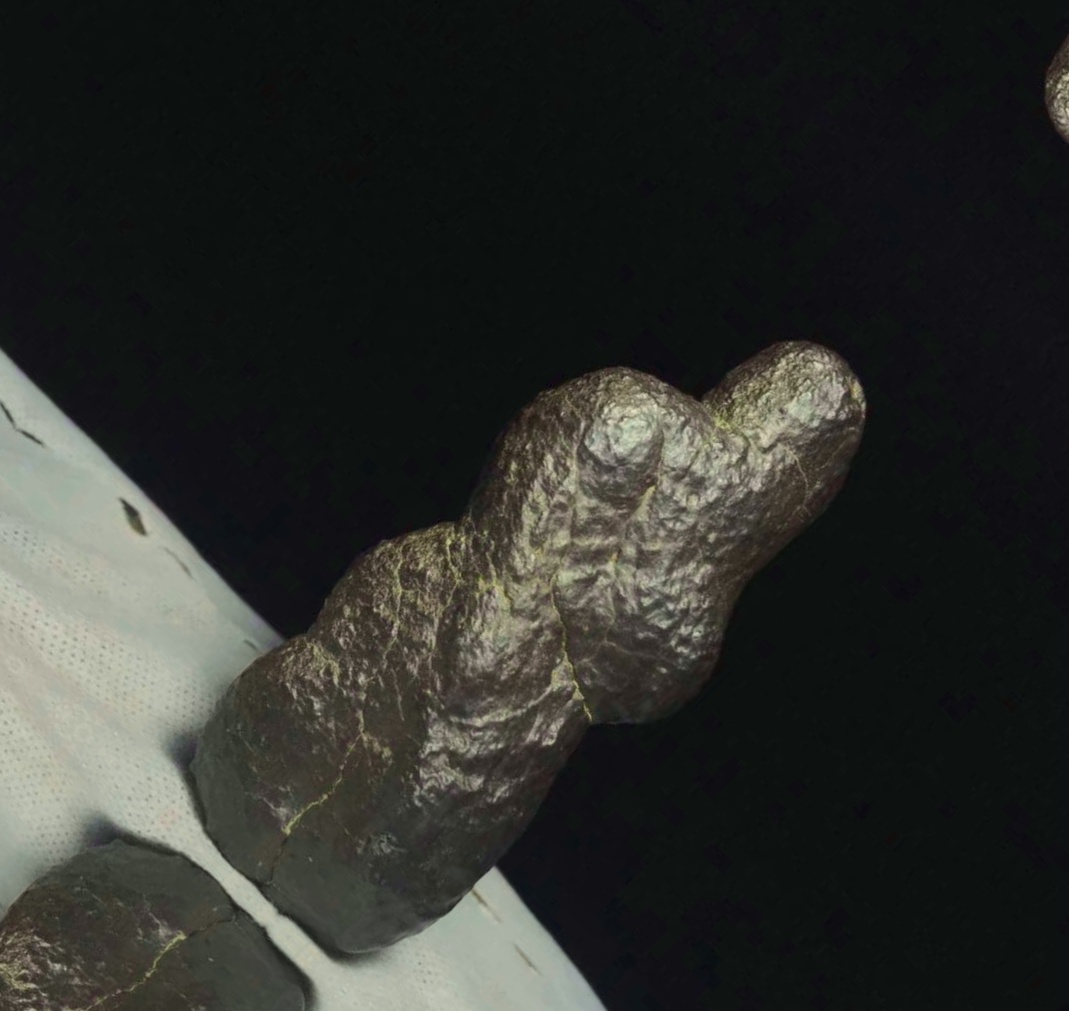halobolite: (87, 155, 985, 1011)
